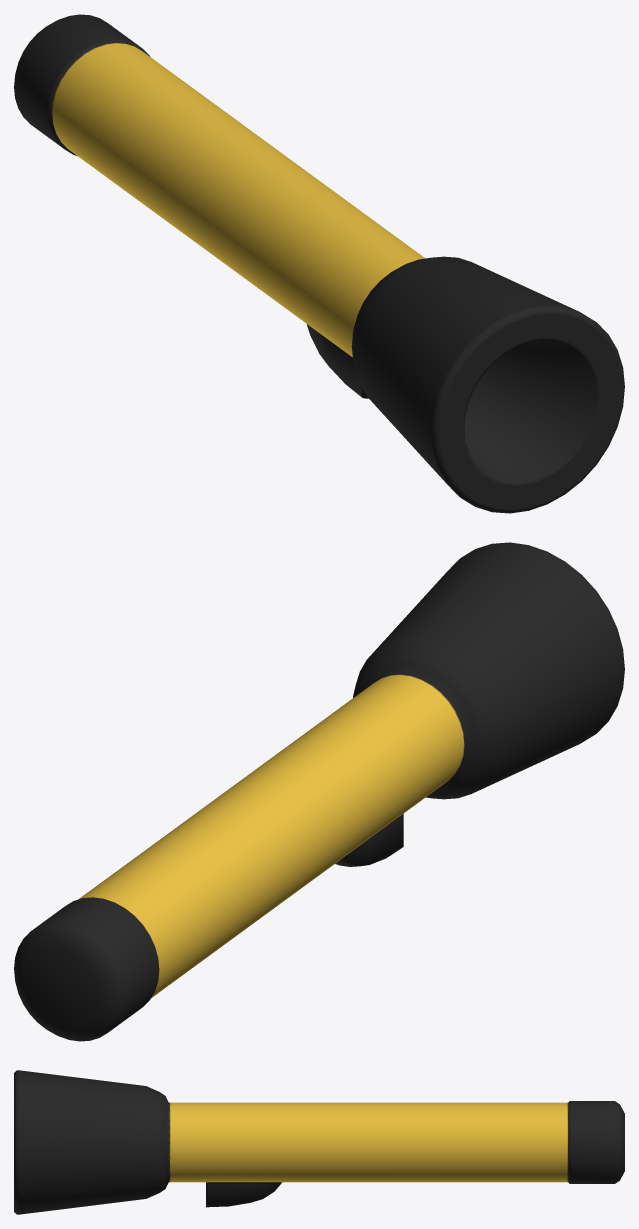
Rendered from flashlight.fbx.
3 views of the same model, one above another, from view 1: azimuth 30°, elevation 25°; view 2: azimuth 150°, elevation 25°; view 3: azimuth 270°, elevation 25° (orthographic). The views are drawn at different scales.
Parts seen in each view (by area): view 1: flashlight; view 2: flashlight; view 3: flashlight.
Boxes of the visible parts, x1,y1,x2,y2 form: flashlight: (14,14,624,513); flashlight: (14,542,624,1041); flashlight: (14,1070,624,1214).
Bounding box in the file's own units: 361 × 361 × 1526.
